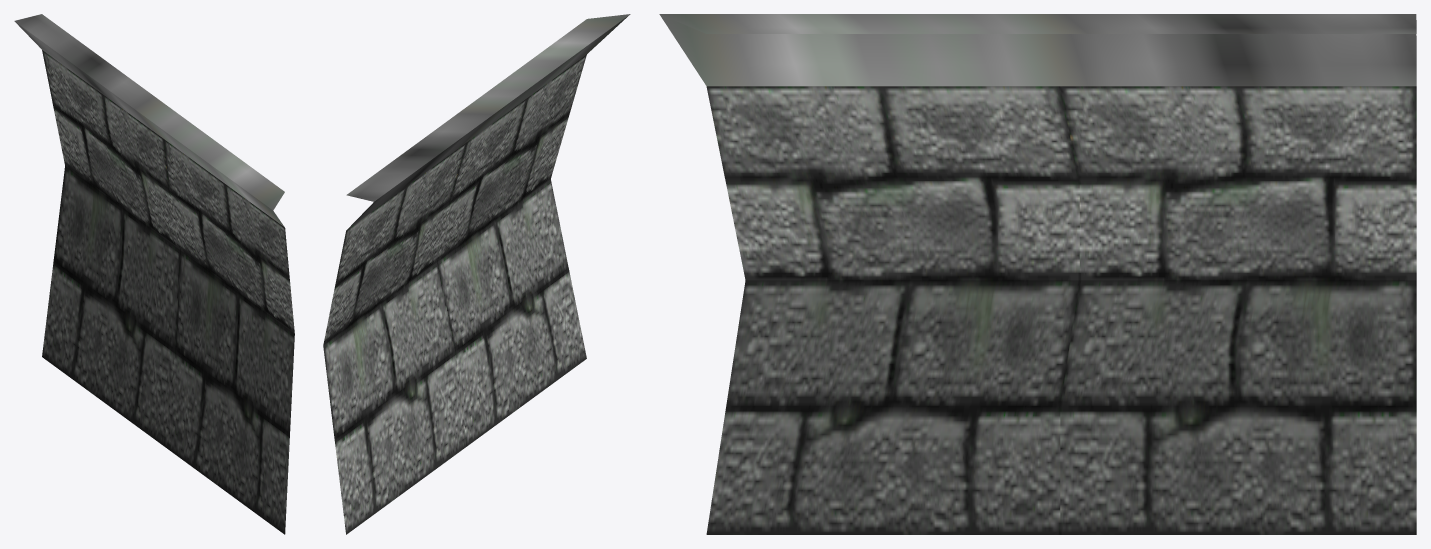
The model's file is W_A2l_xx [GroßeGraueZiegel]_2461.glb.
3 views of the same model, side by side, from view 1: azimuth 30°, elevation 25°; view 2: azimuth 150°, elevation 25°; view 3: azimuth 270°, elevation 25° (orthographic). The views are drawn at different scales.
Visible parts, largest first — view 1: pPlaneShape1, polySurfaceShape1065; view 2: pPlaneShape1, polySurfaceShape1065; view 3: pPlaneShape1, polySurfaceShape1065.
Part boxes in pixels (x1,y1,x2,y2): pPlaneShape1: (42,50,294,534); polySurfaceShape1065: (14,14,284,227); pPlaneShape1: (323,54,586,534); polySurfaceShape1065: (346,14,630,229); pPlaneShape1: (706,86,1416,534); polySurfaceShape1065: (659,14,1416,86).
Bounding box in the file's own units: 0.0607 × 0.3891 × 0.5333.
Materials: 2 (2 with a texture image).
